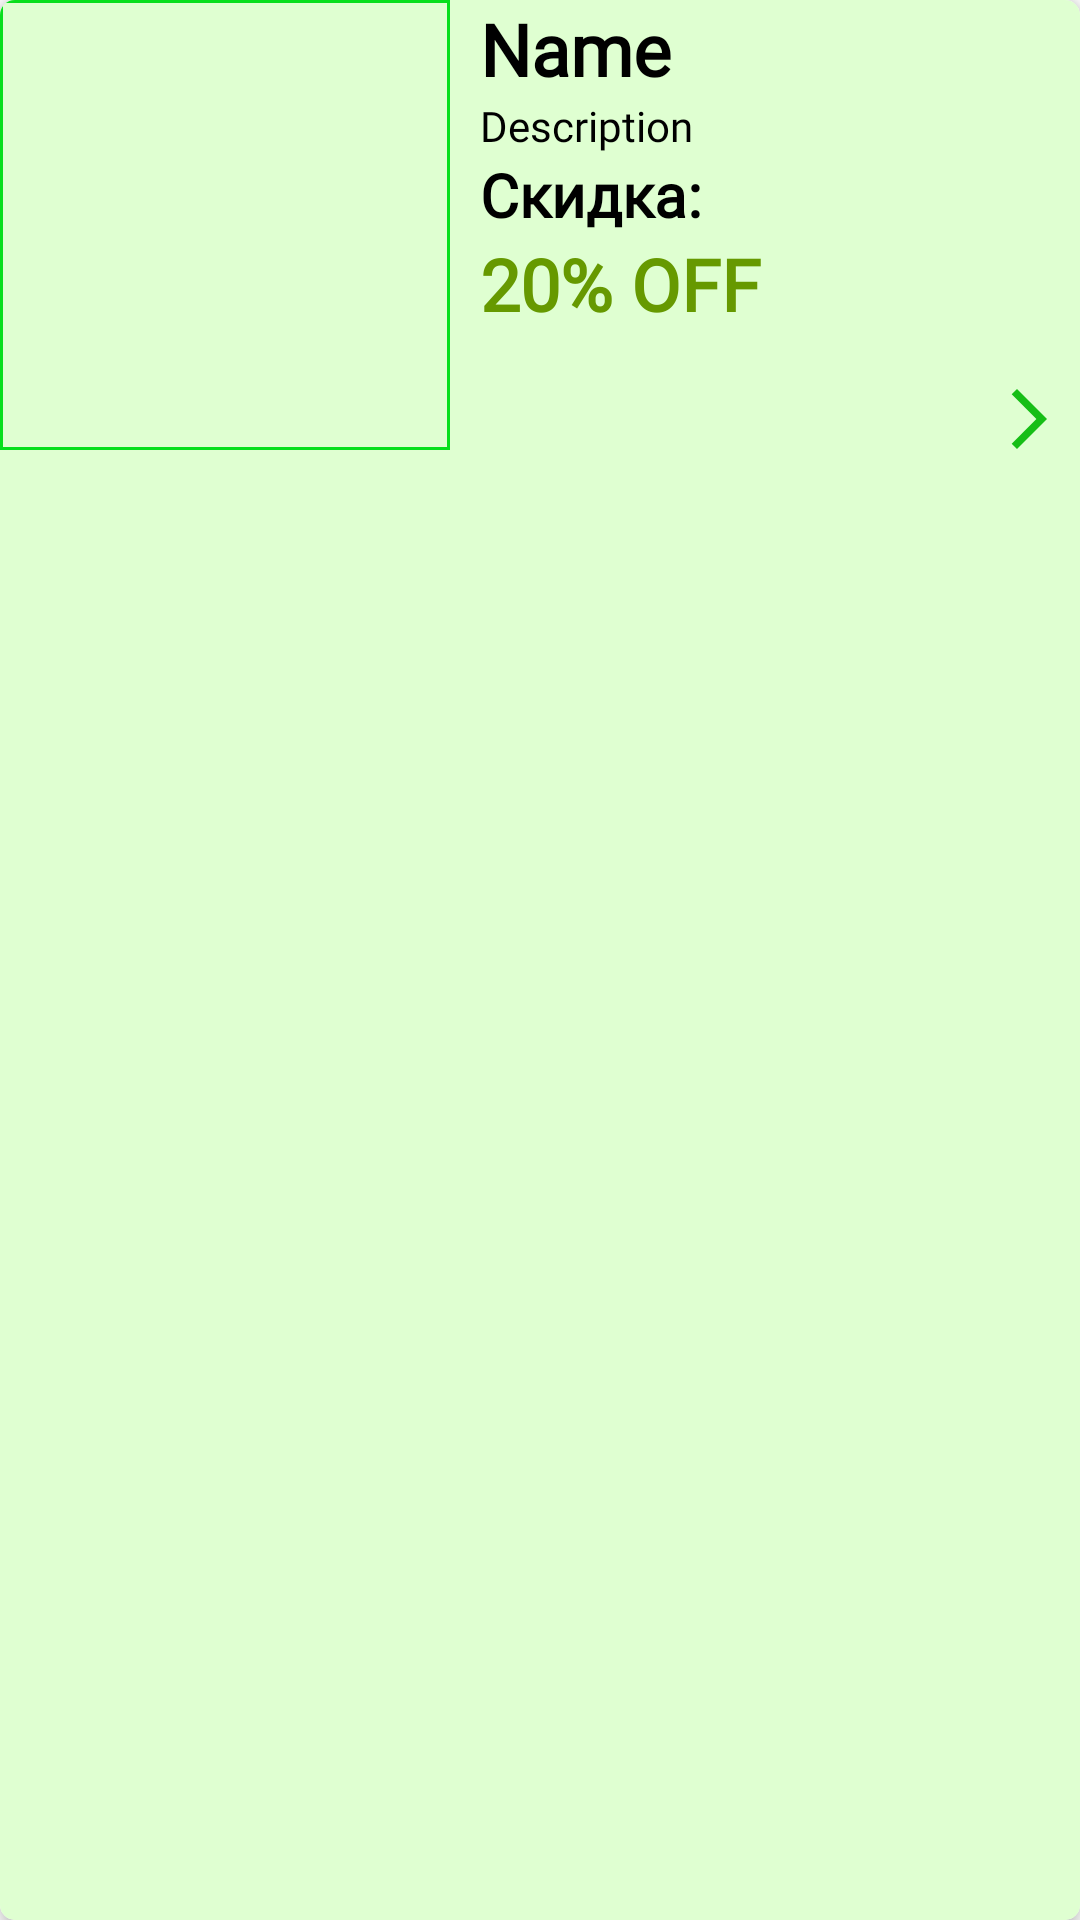

Named icons in this screenshot (1080*1920) and their centers, (x=x, y=y):
arrow forward: (x=1029, y=419)
